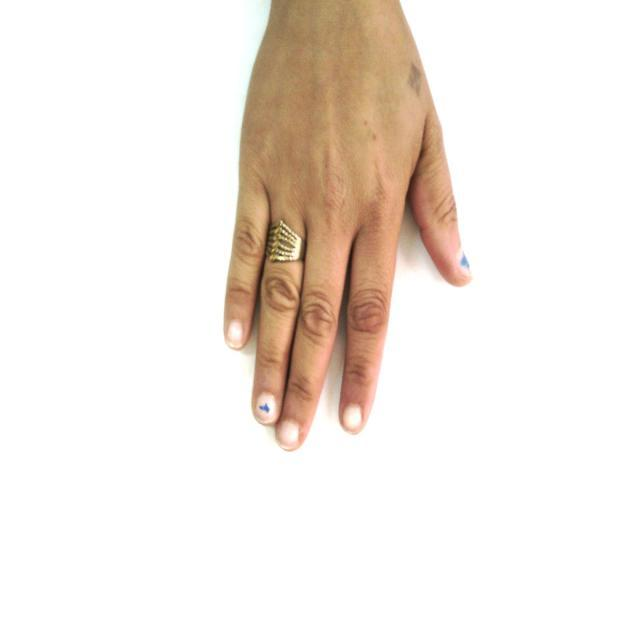Fingernail: (277, 418, 299, 449), (255, 392, 276, 424), (343, 401, 362, 433), (226, 318, 242, 349), (457, 247, 471, 277)
